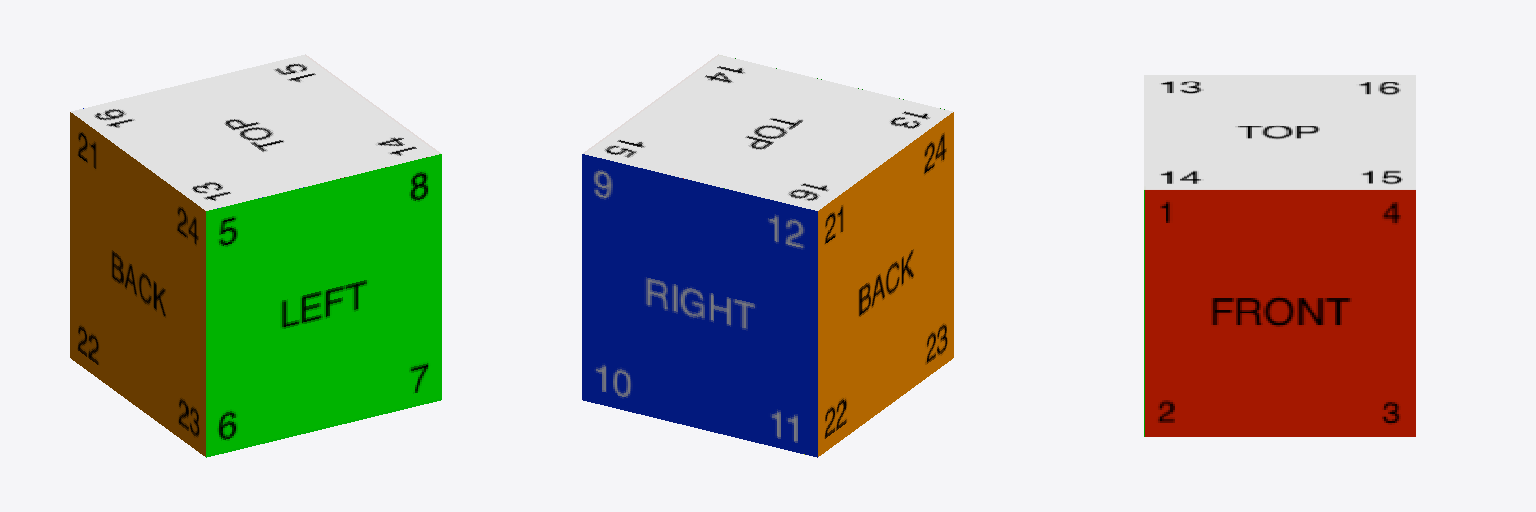
3 renders of one model, left to right at view 1: azimuth 30°, elevation 25°; view 2: azimuth 150°, elevation 25°; view 3: azimuth 270°, elevation 25°, orthographic.
Visible parts, largest first — view 1: Cube; view 2: Cube; view 3: Cube.
Boxes of the visible parts, x1=… form: Cube: x1=70, y1=54, x2=441, y2=457; Cube: x1=582, y1=54, x2=953, y2=457; Cube: x1=1144, y1=75, x2=1415, y2=436.
Bounding box in the file's own units: 2 × 2 × 2.
Materials: 1 (1 with a texture image).